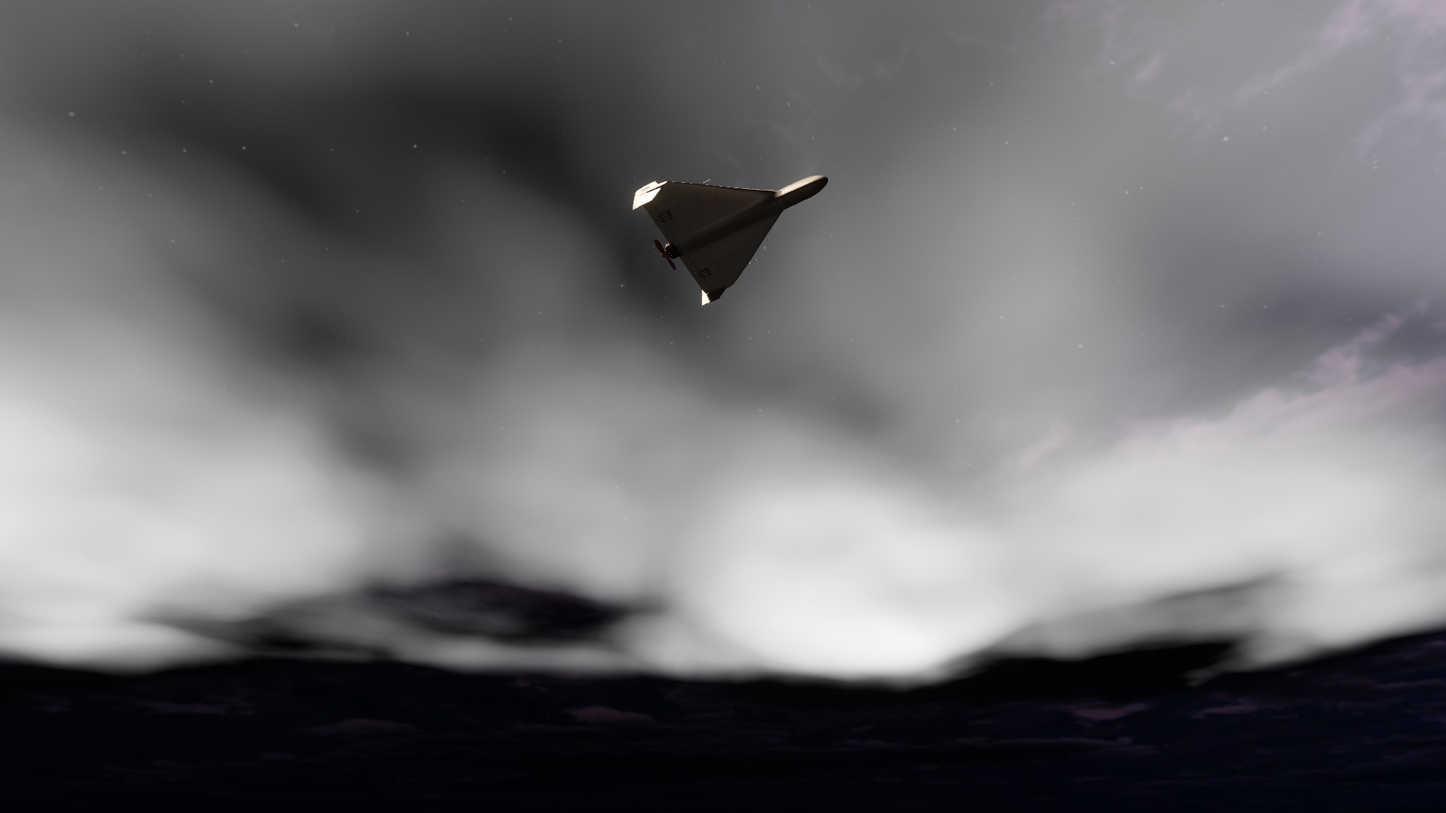shahed: (632, 175, 828, 306)
